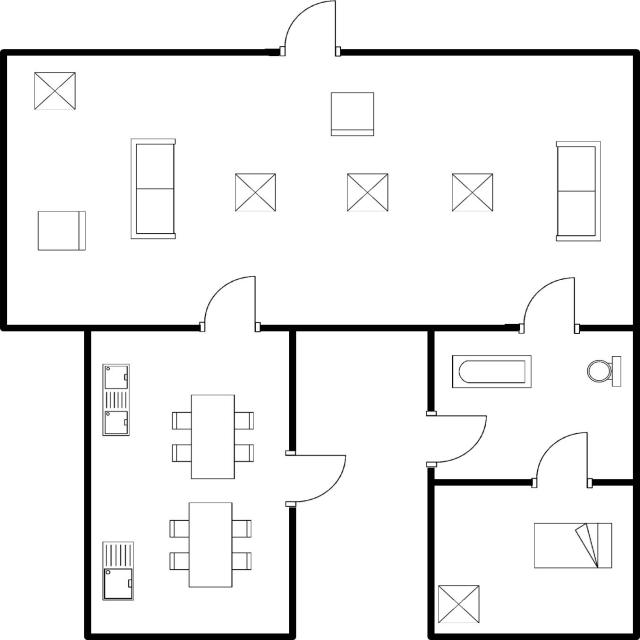bed: (527, 518, 617, 574)
coffee_table: (444, 168, 500, 216), (341, 168, 394, 216), (30, 65, 79, 114), (435, 580, 485, 628), (232, 168, 280, 216)
dining_table: (165, 390, 260, 483), (164, 498, 255, 592)
large_sink: (581, 351, 625, 390)
large_sofa: (126, 132, 181, 244), (550, 136, 606, 245)
sink: (98, 536, 140, 606)
small_sofa: (323, 87, 379, 142), (32, 206, 91, 257)
tub: (447, 349, 538, 393)
twin_sink: (96, 360, 136, 442)
